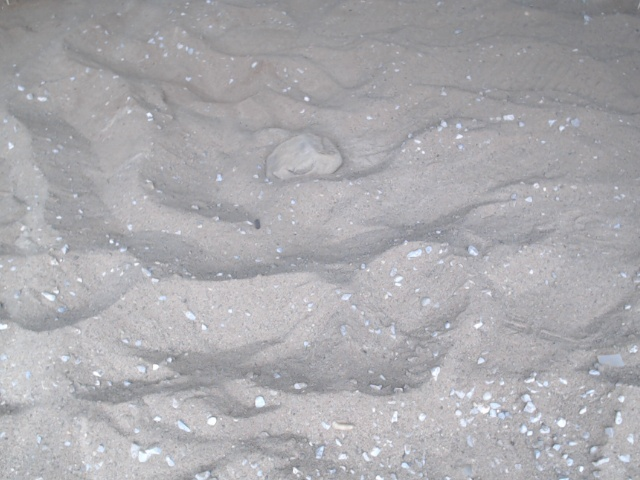rock: (257, 127, 351, 192)
